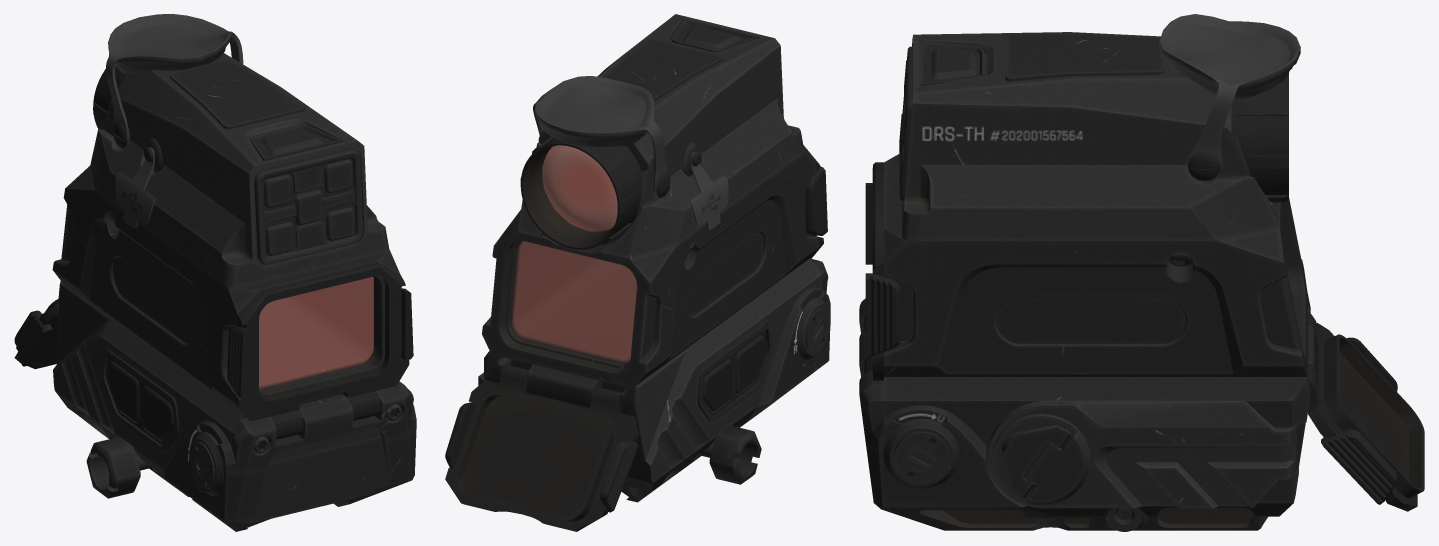
The model's file is holosun_drs-th.glb.
The picture shows the model from 3 angles, left to right: view 1: azimuth 30°, elevation 25°; view 2: azimuth 150°, elevation 25°; view 3: azimuth 270°, elevation 25°; orthographic projection. The views are drawn at different scales.
Visible parts, largest first — view 1: DRS-TH; view 2: DRS-TH; view 3: DRS-TH.
Part boxes in pixels (x1=…): DRS-TH: x1=14, y1=14, x2=416, y2=531; DRS-TH: x1=445, y1=14, x2=830, y2=531; DRS-TH: x1=859, y1=14, x2=1424, y2=531.
Size of the model in its own units: 0.0464 by 0.0808 by 0.0887.
Materials: 2 (2 with a texture image).
